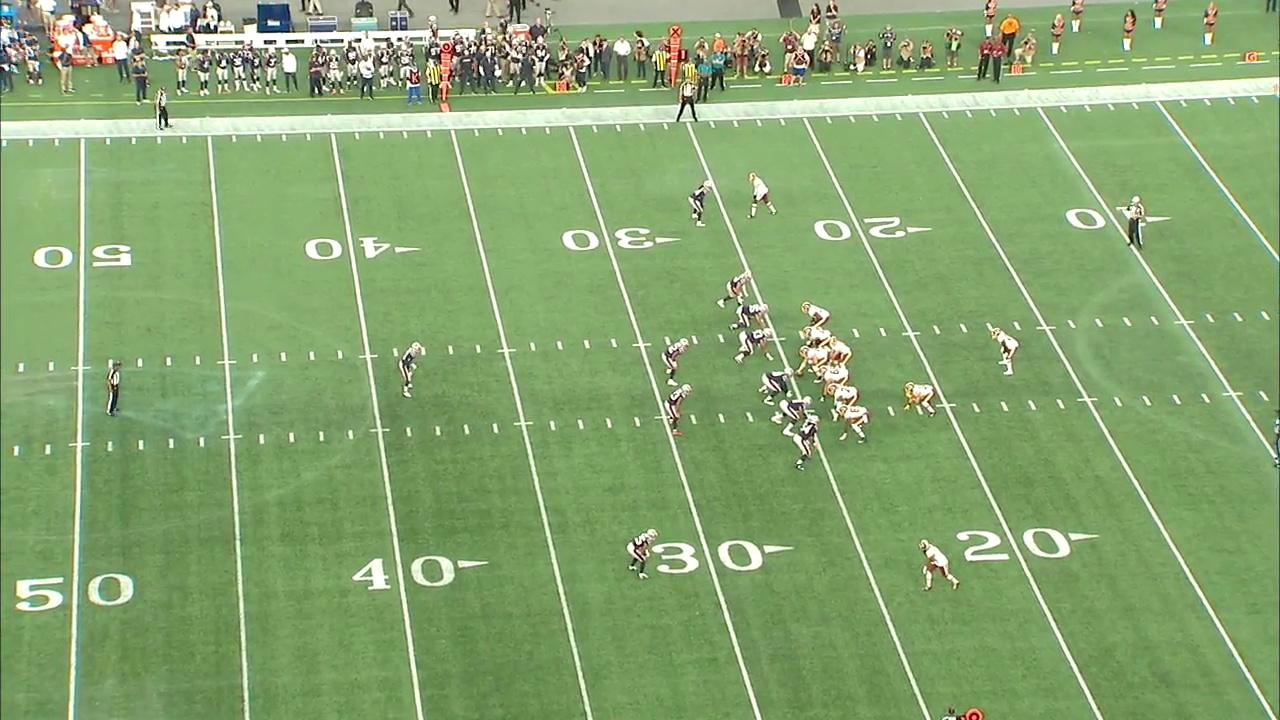defense: (657, 377, 696, 439), (623, 525, 661, 582), (393, 338, 423, 404), (660, 333, 694, 391), (681, 176, 718, 228), (792, 412, 823, 471), (757, 366, 798, 408), (773, 396, 817, 435), (736, 326, 775, 366), (720, 269, 756, 309), (730, 301, 773, 333)
oline: (796, 346, 829, 374), (799, 300, 829, 329), (825, 383, 859, 408), (814, 364, 852, 385), (802, 327, 830, 348)
qb: (825, 334, 854, 368)
ref: (99, 356, 144, 419), (1119, 193, 1148, 254), (149, 84, 179, 135), (673, 78, 701, 124)
skill: (914, 531, 964, 599), (988, 317, 1021, 377), (745, 172, 780, 221), (901, 381, 939, 419), (838, 408, 868, 444)
